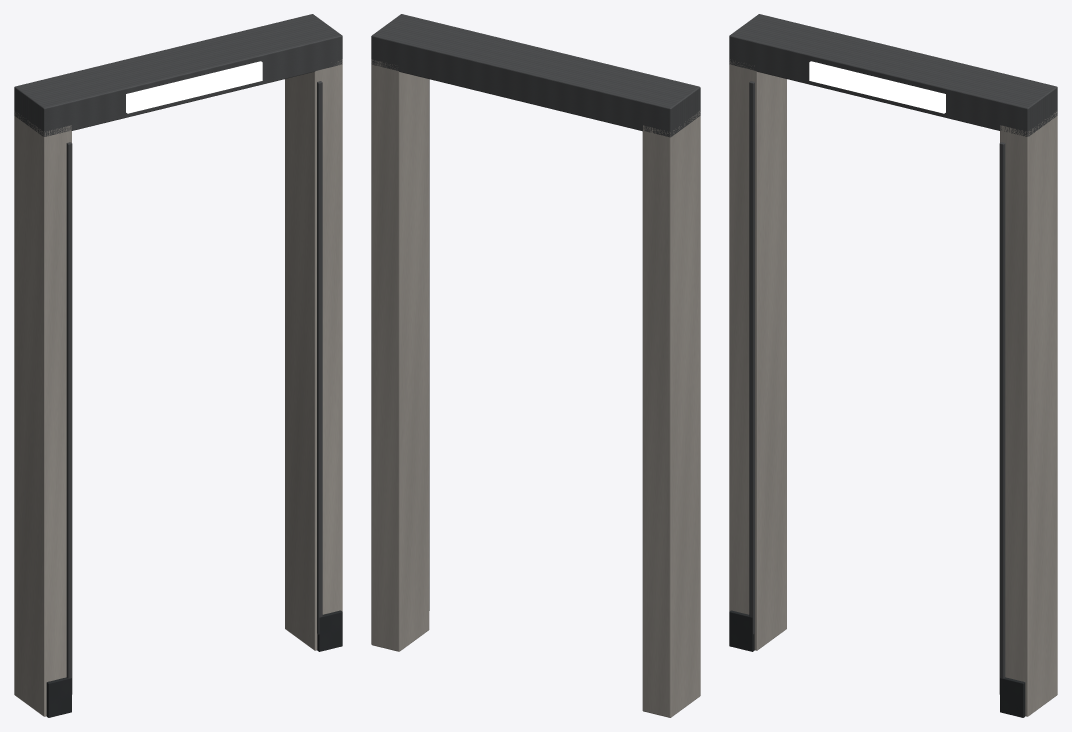
File: door_frame.glb
3 views of the same model, side by side, from view 1: azimuth 30°, elevation 25°; view 2: azimuth 150°, elevation 25°; view 3: azimuth 330°, elevation 25° (orthographic).
Parts seen in each view (by area): view 1: jamb.004, jamb.005, header.001, frame_inner_trim, frame_inner_trim.001, header_light, frame_foot_plate, frame_foot_plate.001; view 2: jamb.004, jamb.005, header.001, frame_inner_trim.001; view 3: jamb.005, jamb.004, header.001, frame_inner_trim.001, frame_inner_trim, header_light, frame_foot_plate.001, frame_foot_plate.
Boxes of the visible parts, x1,y1,x2,y2 form: jamb.004: (14,111,71,716); jamb.005: (285,59,342,650); header.001: (14,14,342,136); frame_inner_trim: (66,142,72,694); frame_inner_trim.001: (317,81,322,634); header_light: (126,61,262,113); frame_foot_plate: (46,677,71,717); frame_foot_plate.001: (317,610,342,651); jamb.004: (642,111,700,717); jamb.005: (371,59,429,651); header.001: (371,14,700,137); frame_inner_trim.001: (429,79,429,610); jamb.005: (1000,111,1057,716); jamb.004: (729,59,786,650); header.001: (729,14,1057,136); frame_inner_trim.001: (999,142,1005,694); frame_inner_trim: (749,81,754,634); header_light: (809,61,945,113); frame_foot_plate.001: (1000,677,1025,717); frame_foot_plate: (729,610,754,651).
Size of the model in its own units: 1.26 by 2.45 by 0.2355.
4 materials, 3 textured.
